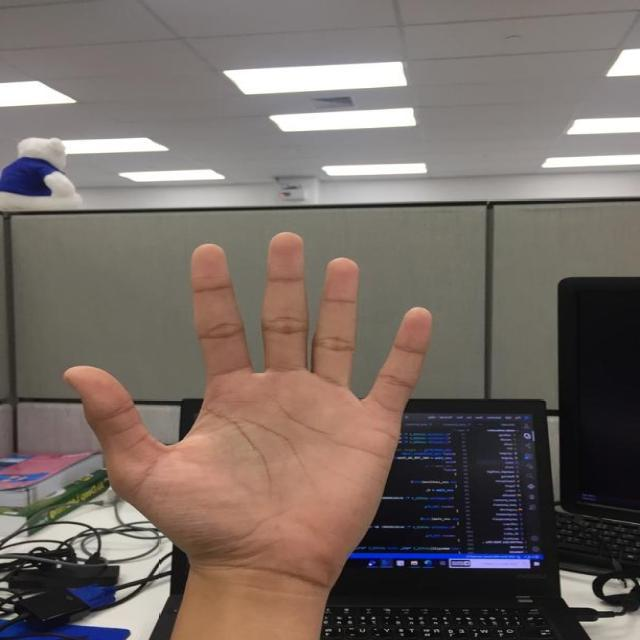hand: (63, 228, 437, 587)
